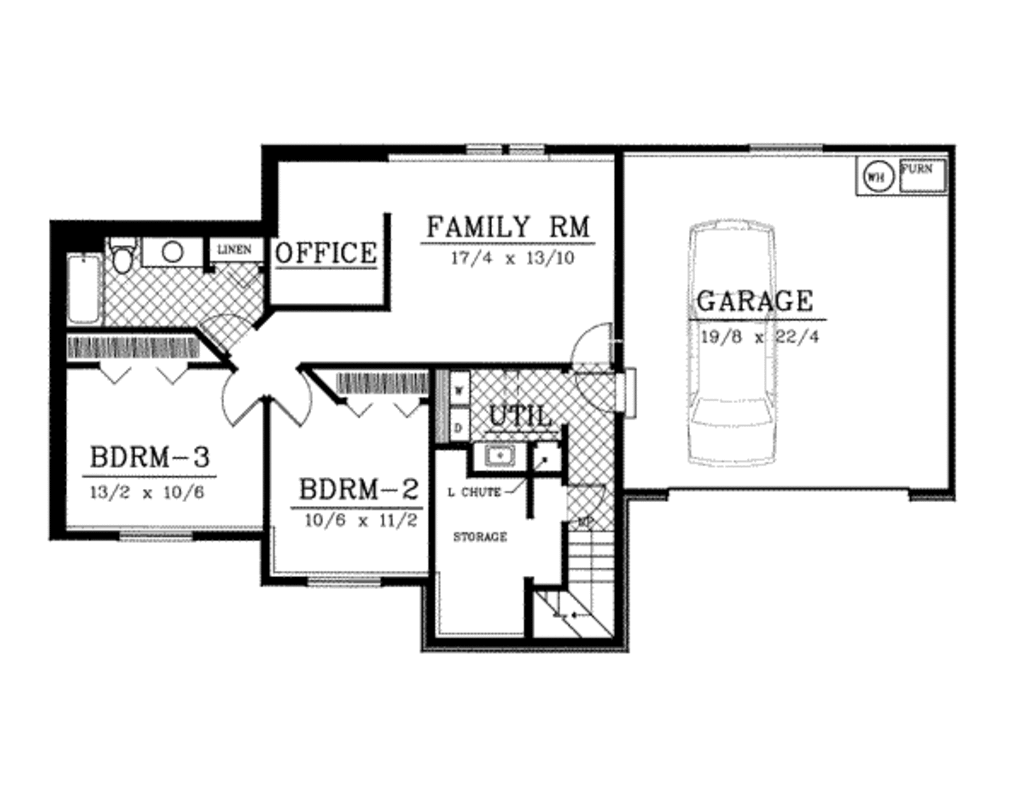door: (577, 365, 648, 419), (560, 303, 621, 364), (198, 303, 265, 351), (216, 370, 261, 429), (272, 370, 318, 427)
large_sink: (111, 241, 136, 276)
sink: (479, 437, 530, 476)
small_sink: (144, 236, 207, 274)
stairs: (517, 520, 630, 643)
tub: (63, 241, 109, 331)
window: (122, 523, 206, 545), (306, 565, 389, 587), (744, 137, 827, 157), (462, 140, 544, 159)
